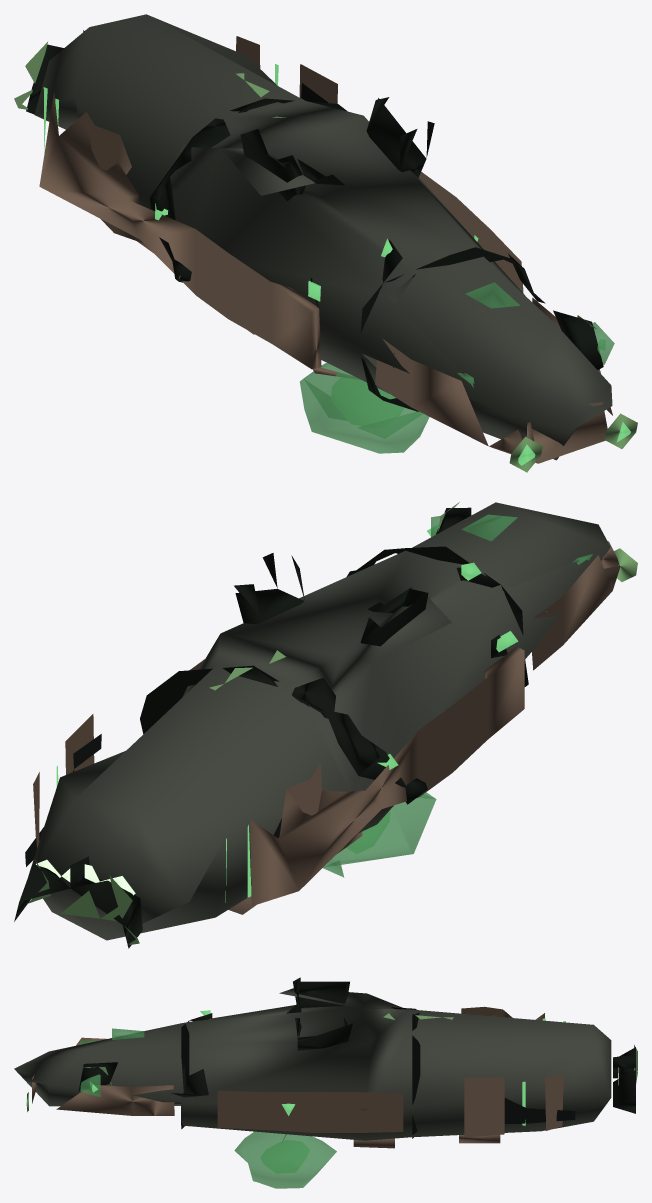
The model's file is zrost-szczepieni-coalition-38-lod2.glb.
The picture shows the model from 3 angles, top to bottom: view 1: azimuth 30°, elevation 25°; view 2: azimuth 150°, elevation 25°; view 3: azimuth 270°, elevation 25°; orthographic projection. The views are drawn at different scales.
Bounding box in the file's own units: 19.53 × 21.54 × 66.39.
